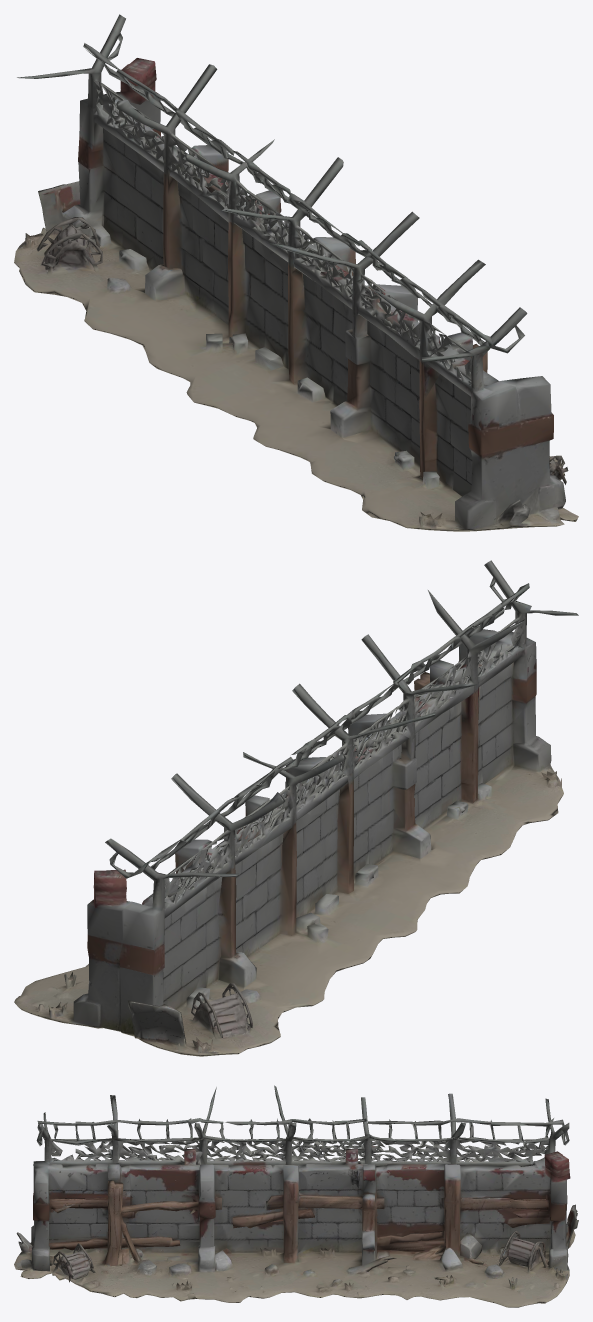
The model's file is wall.glb.
3 renders of one model, top to bottom at view 1: azimuth 30°, elevation 25°; view 2: azimuth 150°, elevation 25°; view 3: azimuth 270°, elevation 25°, orthographic. The views are drawn at different scales.
Visible parts, largest first — view 1: tripo_node_b7adb6bb-1713-4100-89e2-ef1968642ba1; view 2: tripo_node_b7adb6bb-1713-4100-89e2-ef1968642ba1; view 3: tripo_node_b7adb6bb-1713-4100-89e2-ef1968642ba1.
Boxes of the visible parts, bbox=[...] form: tripo_node_b7adb6bb-1713-4100-89e2-ef1968642ba1: bbox=[14, 14, 578, 531]; tripo_node_b7adb6bb-1713-4100-89e2-ef1968642ba1: bbox=[14, 560, 578, 1056]; tripo_node_b7adb6bb-1713-4100-89e2-ef1968642ba1: bbox=[14, 1085, 578, 1307].
Bounding box in the file's own units: 0.3518 × 0.2895 × 1.
1 material, 1 textured.
